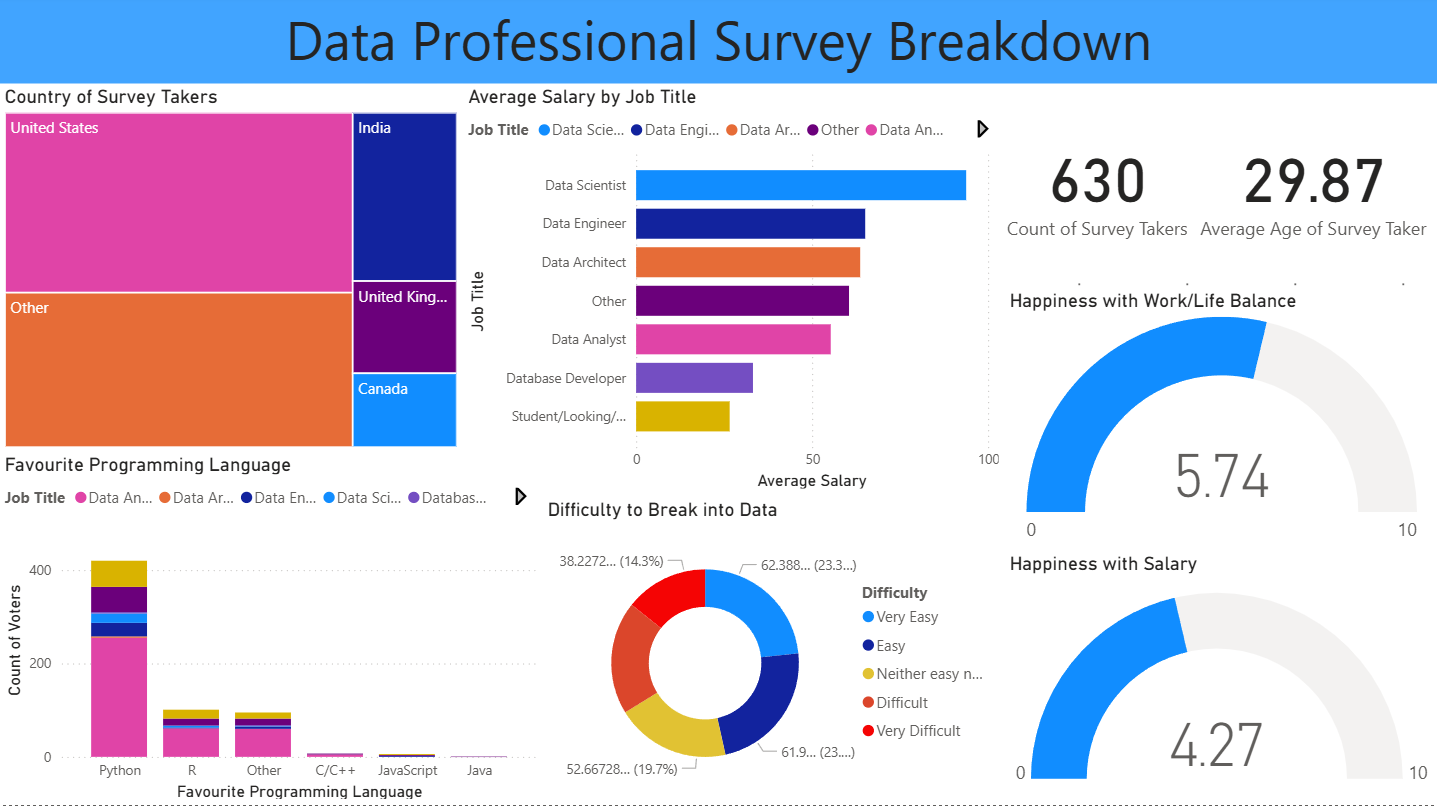

This screenshot's page, from the dashboard's own definition file:
{"tool":"powerbi","page":{"name":"Page 1","canvas":[1280,720],"ordinal":0},"visuals":[{"type":"textbox","box":[0,0,1279.5,78.7],"z":0},{"type":"card","fields":{"Values":["Data Professional Survey.Email"]},"box":[893.6,77.6,193.9,183.5],"z":1000},{"type":"card","fields":{"Values":["Data Professional Survey.Q10 - Current Age"]},"box":[1087.5,77.6,192.4,183.5],"z":2000},{"type":"barChart","title":"Average Salary by Job Title","fields":{"Category":["Data Professional Survey.Q1 - Which Title Best Fits your Current Role?.1"],"Y":["Data Professional Survey.Average Salary"],"Series":["Data Professional Survey.Q1 - Which Title Best Fits your Current Role?.1"]},"box":[411.7,80.6,481.8,364],"z":3000},{"type":"columnChart","title":"Favourite Programming Language","fields":{"Category":["Data Professional Survey.Q5 - Favorite Programming Language.1"],"Y":["Data Professional Survey.Email"],"Series":["Data Professional Survey.Q1 - Which Title Best Fits your Current Role?.1"]},"box":[0,406.5,483.1,313.2],"z":4000},{"type":"treemap","title":"Country of Survey Takers","fields":{"Group":["Data Professional Survey.Q11 - Which Country do you live in?.1"],"Values":["Data Professional Survey.Q11 - Which Country do you live in?.1"]},"box":[0,80,411.5,326.5],"z":5000},{"type":"gauge","title":"Happiness with Work/Life Balance","fields":{"Y":["Data Professional Survey.Q6 - How Happy are you in your Current Position with the following? (Work/Life Balance)"],"MinValue":["Data Professional Survey.Q6 - How Happy are you in your Current Position with the following? (Work/Life Balance)"],"MaxValue":["Data Professional Survey.Q6 - How Happy are you in your Current Position with the following? (Work/Life Balance)"]},"box":[893.6,261.1,386.4,234.2],"z":5001},{"type":"gauge","title":"Happiness with Salary","fields":{"Y":["Data Professional Survey.Q6 - How Happy are you in your Current Position with the following? (Salary)"],"MinValue":["Data Professional Survey.Q6 - How Happy are you in your Current Position with the following? (Salary)"],"MaxValue":["Data Professional Survey.Q6 - How Happy are you in your Current Position with the following? (Salary)"]},"box":[893.6,495.3,386.4,223.8],"z":5002},{"type":"donutChart","title":"Difficulty to Break into Data","fields":{"Category":["Data Professional Survey.Q7 - How difficult was it for you to break into Data?"],"Y":["Data Professional Survey.Average Salary"]},"box":[483.3,446,410.2,274.5],"z":5003}]}

Visuals, with their boxes in screenshot pixels (x1, y1, x2, y2), scaled from the page's 1280x720 canvas onto the 1437x806 screenshot:
textbox: region(0, 0, 1436, 88)
card - Data Professional Survey.Email: region(1003, 87, 1221, 292)
card - Data Professional Survey.Q10 - Current Age: region(1221, 87, 1436, 292)
"Average Salary by Job Title" barChart: region(462, 90, 1003, 498)
"Favourite Programming Language" columnChart: region(0, 455, 542, 805)
"Country of Survey Takers" treemap: region(0, 90, 462, 455)
"Happiness with Work/Life Balance" gauge: region(1003, 292, 1436, 554)
"Happiness with Salary" gauge: region(1003, 554, 1436, 805)
"Difficulty to Break into Data" donutChart: region(543, 499, 1003, 805)
